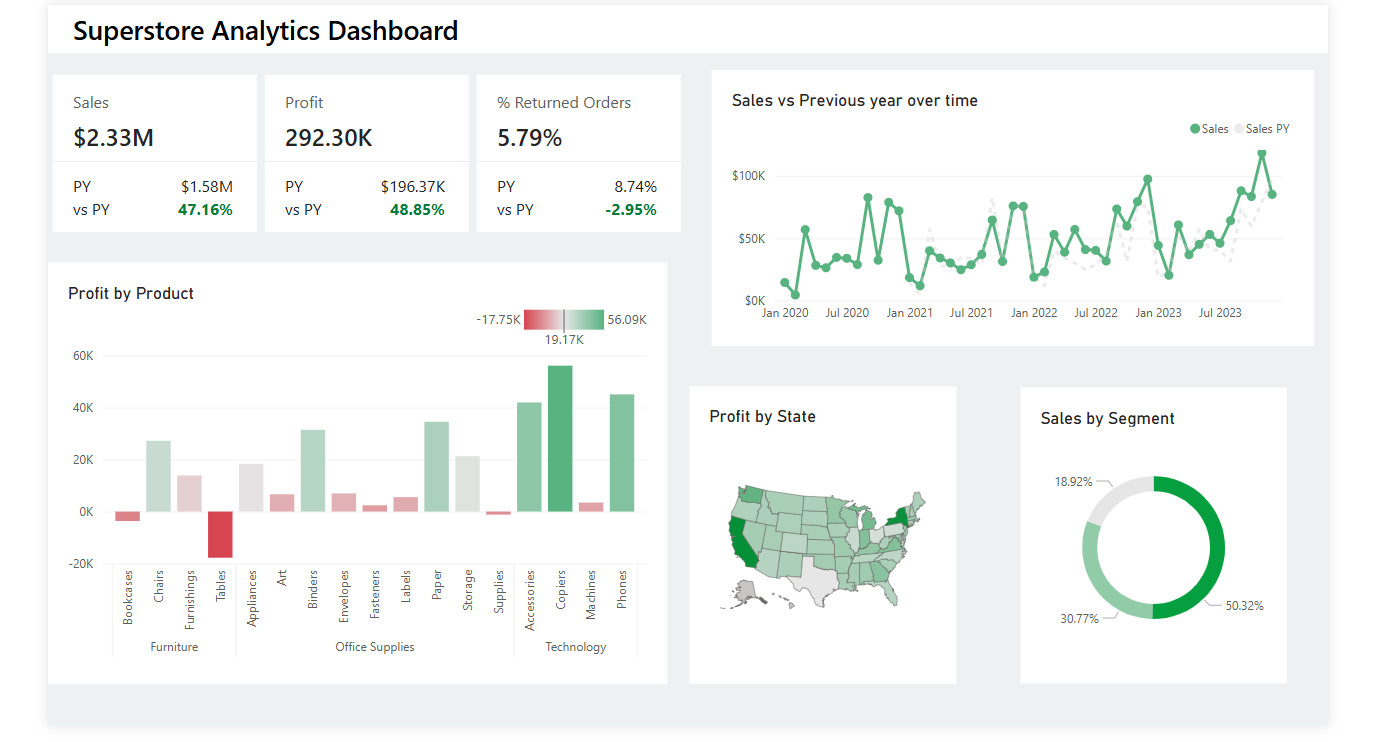

Layout of this report page (visuals, bound fields, positions):
{"tool":"powerbi","page":{"name":"Page 1","canvas":[1280,720],"ordinal":0},"visuals":[{"type":"cardVisual","fields":{"Data":["Key Measures.Sales","Key Measures.Profit","Key Measures.% Returned Orders "]},"box":[0,64.5,639.5,167.4],"z":0},{"type":"shape","box":[0,0,1280.3,48],"z":1000},{"type":"lineChart","title":"Sales vs Previous year over time","fields":{"Y":["Key Measures.Sales","Key Measures.Sales PY"],"Category":["Date Table.Start of month"]},"box":[664.2,64.5,602.4,275.8],"z":2000},{"type":"columnChart","title":"Profit by Product","fields":{"Category":["Orders.Category","Orders.Sub-Category"],"Y":["Key Measures.Profit"]},"box":[0,258,618.9,421.3],"z":3000},{"type":"shapeMap","title":"Profit by State","fields":{"Value":["Key Measures.Profit"],"Category":["Orders.State/Province"]},"box":[640.8,381.5,267.6,297.8],"z":4000},{"type":"donutChart","title":"Sales by Segment","fields":{"Y":["Key Measures.Sales"],"Category":["Orders.Segment"]},"box":[972.9,382.8,266.2,296.4],"z":5000}]}

Visuals, with their boxes on the page's 1280x720 design canvas (x1, y1, x2, y2). These are canvas units, not pixel positions in the 1375x742 screenshot, which may show the page scaled, cropped or inside an application window:
cardVisual - Key Measures.Sales x Key Measures.Profit: rect(0, 64, 640, 232)
shape: rect(0, 0, 1280, 48)
"Sales vs Previous year over time" lineChart: rect(664, 64, 1267, 340)
"Profit by Product" columnChart: rect(0, 258, 619, 679)
"Profit by State" shapeMap: rect(641, 382, 908, 679)
"Sales by Segment" donutChart: rect(973, 383, 1239, 679)
